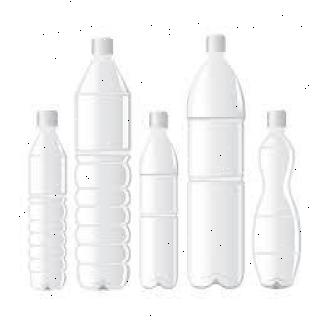Plastic-bottle: (187, 33, 248, 292), (73, 37, 134, 293), (251, 108, 303, 292), (138, 108, 182, 292), (27, 107, 70, 294)
